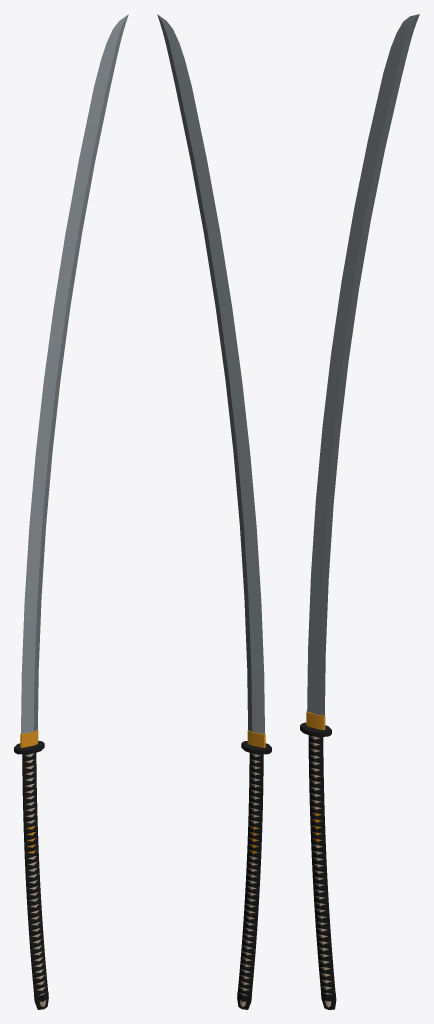
Rendered from SM_Sword12_Odachi_1.fbx.
The picture shows the model from 3 angles, left to right: view 1: azimuth 30°, elevation 25°; view 2: azimuth 150°, elevation 25°; view 3: azimuth 330°, elevation 25°; orthographic projection. The views are drawn at different scales.
Visible parts, largest first — view 1: Cube.496, Torus.049; view 2: Cube.496, Torus.049; view 3: Cube.496, Torus.049.
Part boxes in pixels (box(x1,y1,x2,y2)): Cube.496: box(21, 14, 128, 733); Torus.049: box(22, 753, 48, 996); Cube.496: box(157, 14, 264, 733); Torus.049: box(237, 753, 263, 996); Cube.496: box(307, 14, 419, 715); Torus.049: box(308, 735, 335, 994).
Size of the model in its own units: 0.2184 by 1.79 by 0.0342.
